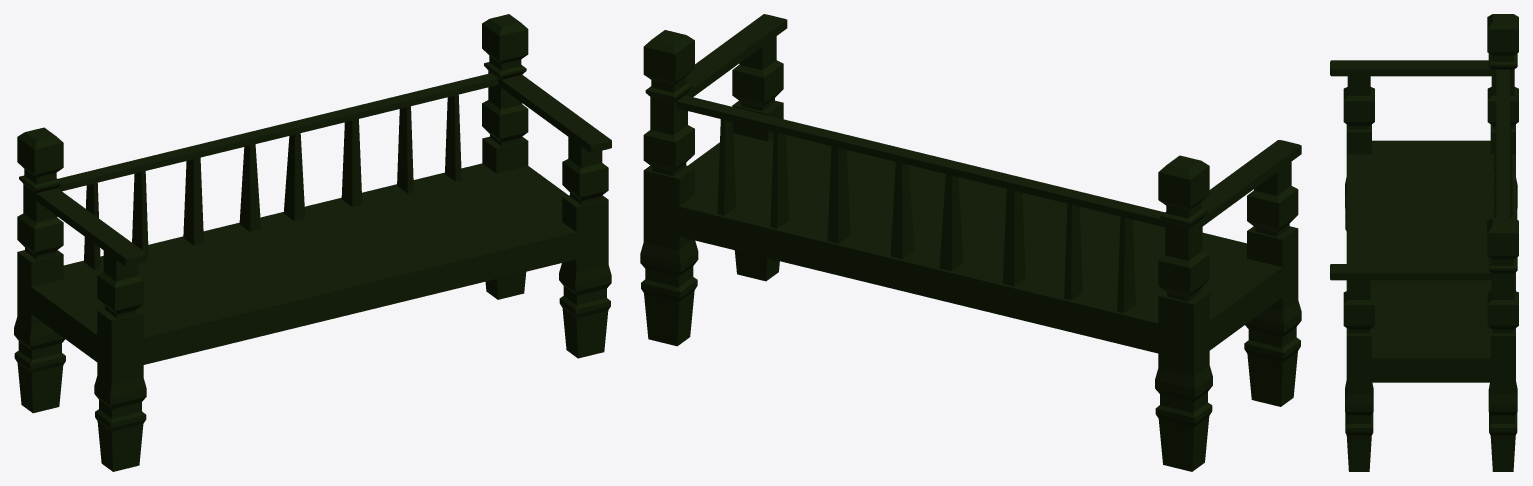
Rendered from dekka s3eedy.fbx.
The picture shows the model from 3 angles, left to right: view 1: azimuth 30°, elevation 25°; view 2: azimuth 150°, elevation 25°; view 3: azimuth 270°, elevation 25°; orthographic projection. The views are drawn at different scales.
Parts seen in each view (by area): view 1: dekkas3eedy; view 2: dekkas3eedy; view 3: dekkas3eedy.
Boxes of the visible parts, x1=… form: dekkas3eedy: x1=14, y1=14, x2=611, y2=471; dekkas3eedy: x1=640, y1=14, x2=1301, y2=471; dekkas3eedy: x1=1330, y1=14, x2=1518, y2=471.
Bounding box in the file's own units: 1133 × 587 × 411.
